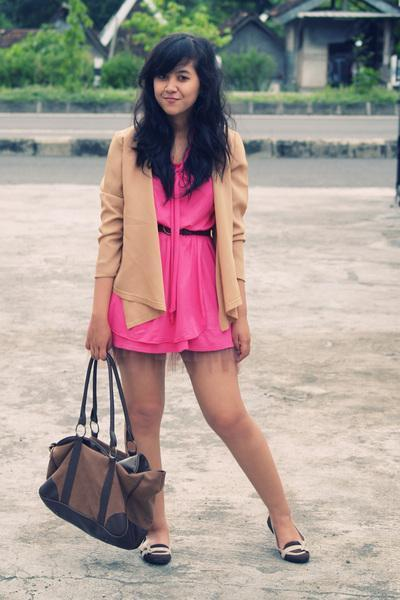bag: (39, 330, 165, 549)
dress: (111, 172, 227, 353)
jacket: (96, 132, 251, 340)
shoe: (142, 517, 309, 566)
